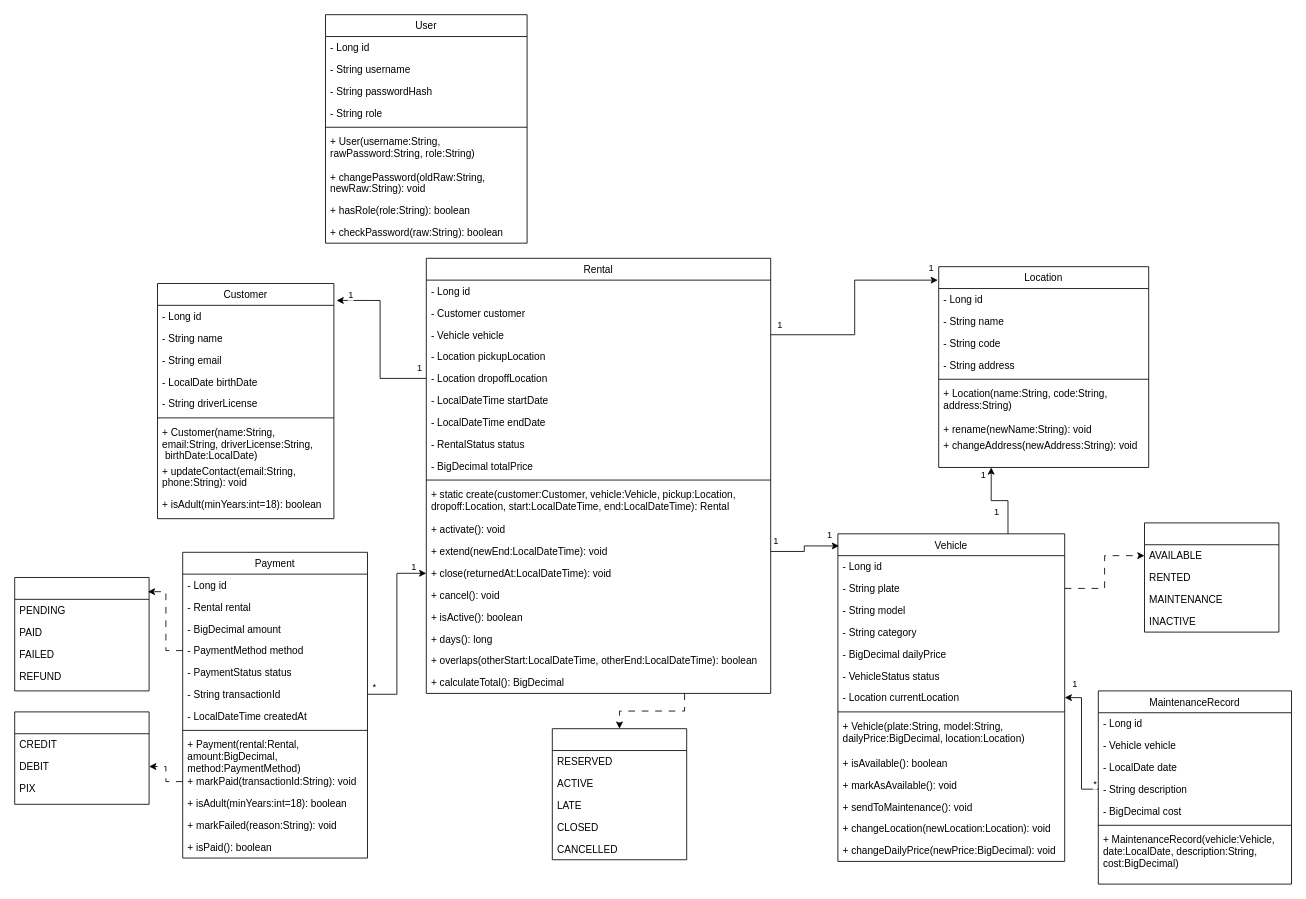
The diagram is 1306 pixels wide and 899 high, and some of its shapes have lost their labels. Each missing label, with the box of its shape:
PaymentMethod: (14, 711, 149, 804)
PaymentStatus: (14, 577, 149, 691)
RentalStatus: (551, 728, 687, 860)
VehicleStatus: (1144, 522, 1279, 632)
